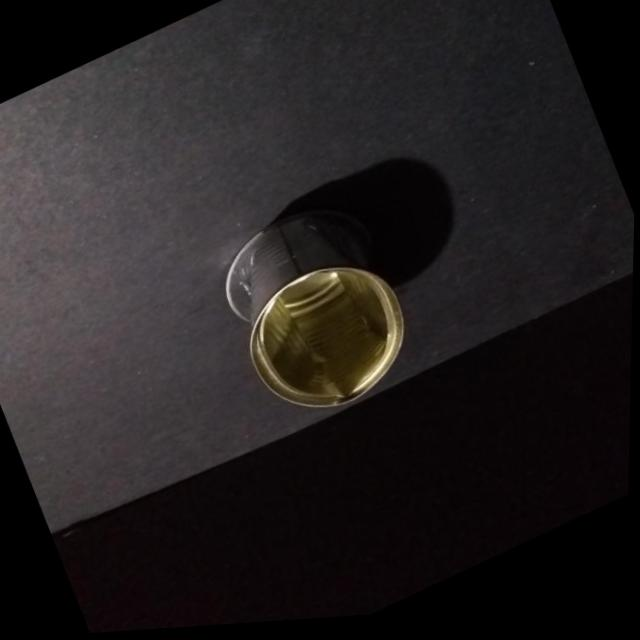metal: (226, 159, 451, 401)
